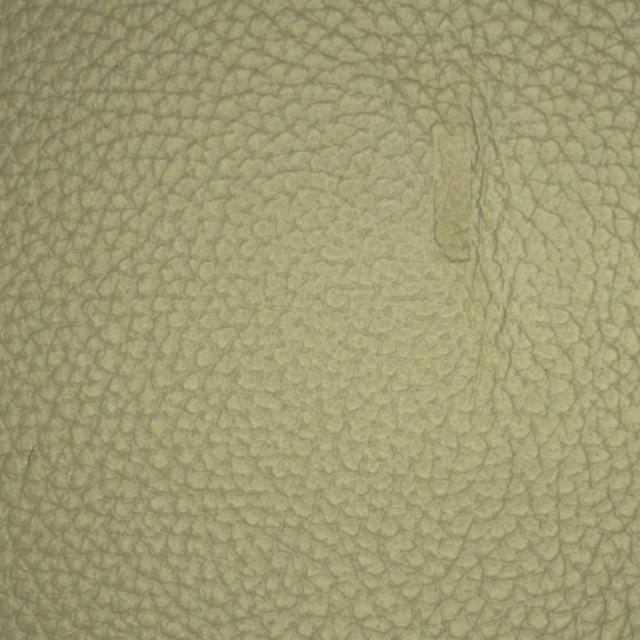Healed Injury: (396, 73, 525, 296)
